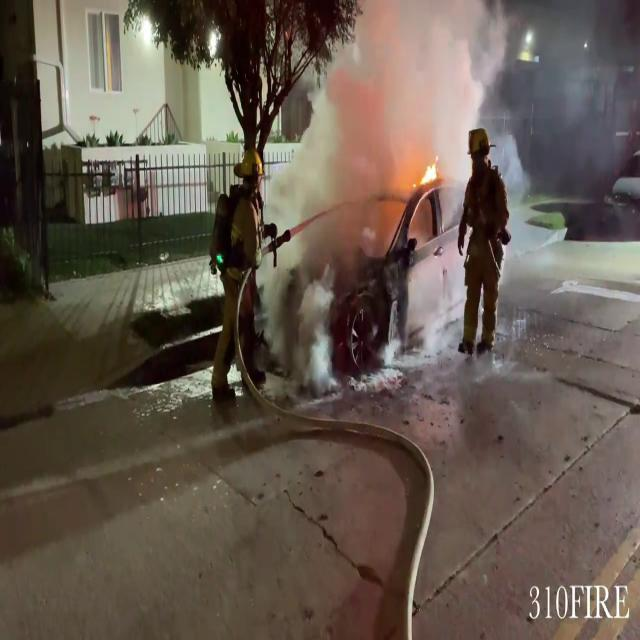Smoke: (288, 0, 640, 201), (288, 0, 511, 208)
